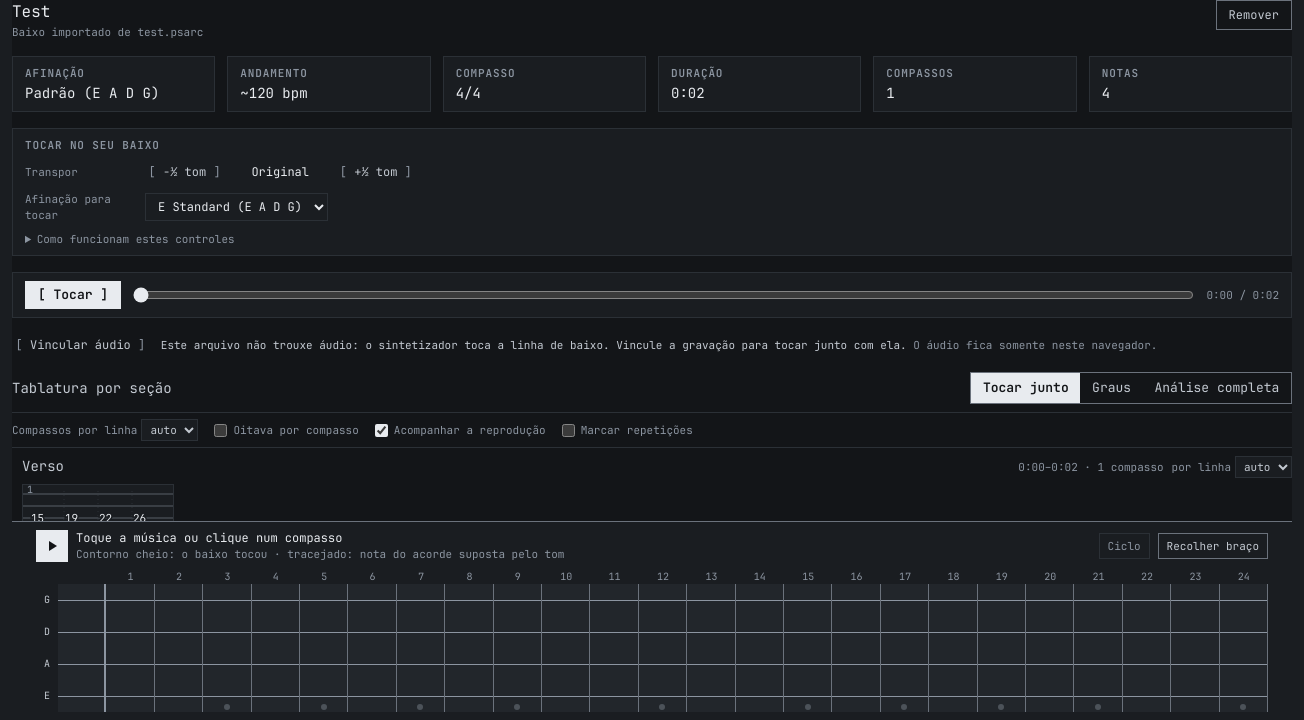
it: Biblioteca semitone buttons › transposes midi chords and synth notes in both directions, then restores the original
The width and height of the screenshot is (1304, 720).
Click the button "Análise completa" at [1217, 388], box [1143,373,1291,403]
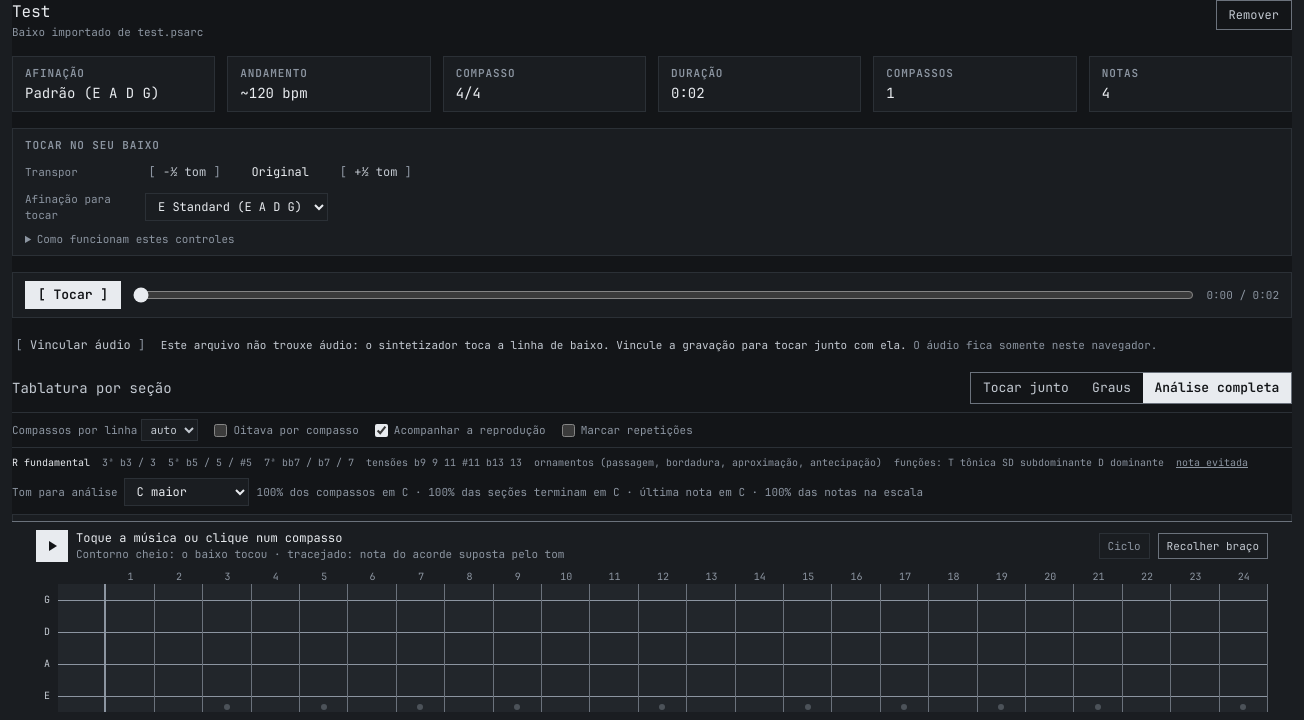
Select "C maior" in the dropdown labelled "Tom para análise" at [186, 492], box [124,478,249,506]
Click the button with aria-label "Aumentar meio tom" at [376, 172], box [336,161,415,183]
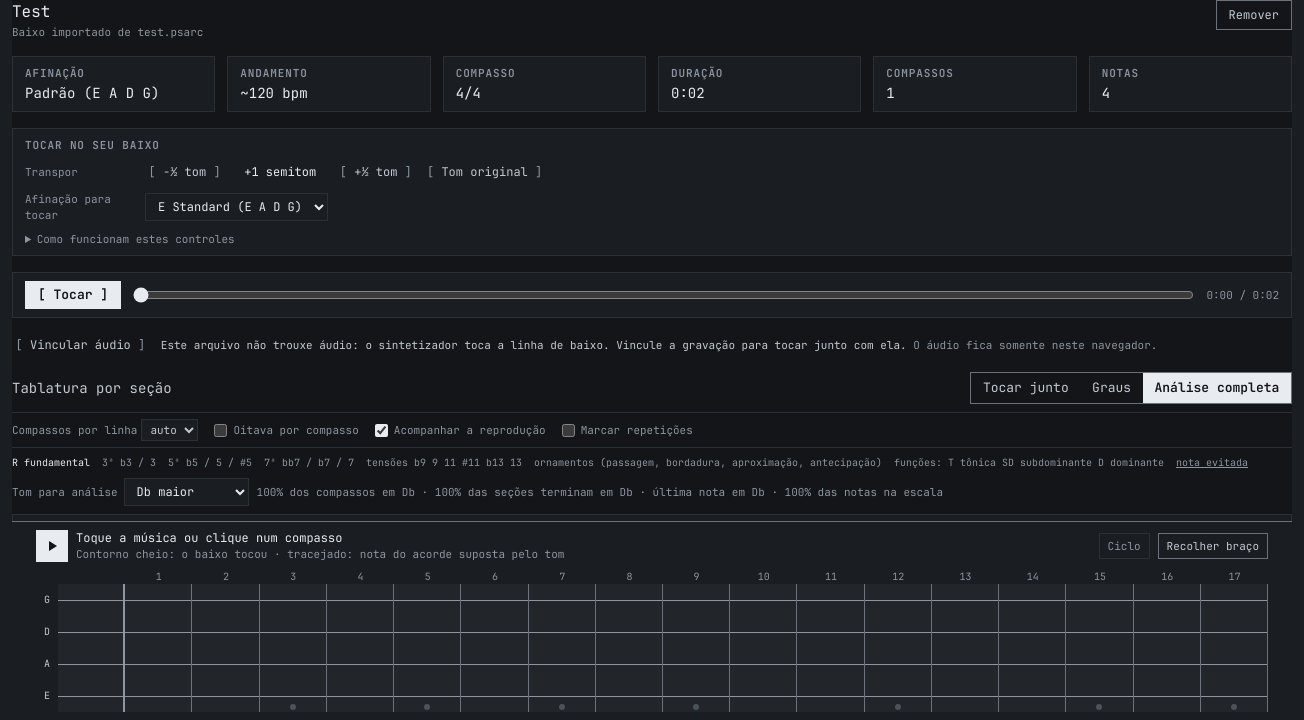
Click the button with aria-label "Diminuir meio tom" at [185, 172], box [145,161,224,183]
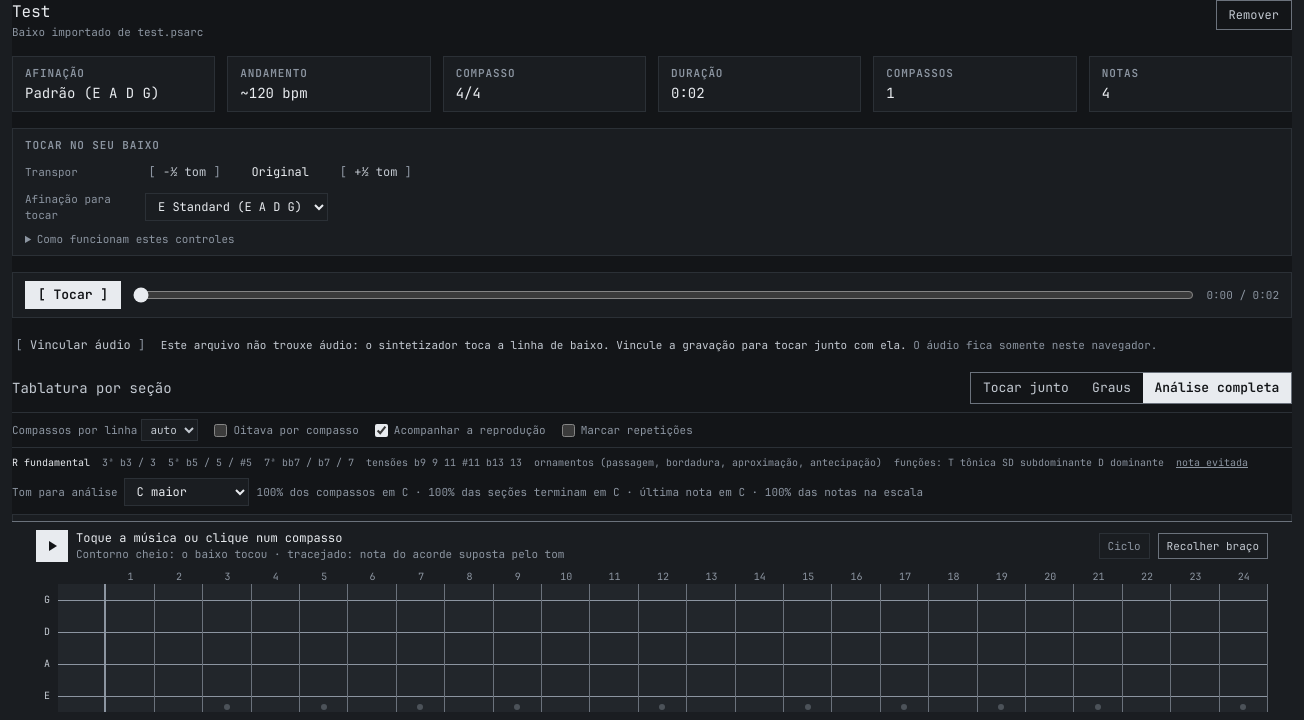
Click the button with aria-label "Diminuir meio tom" at [185, 172], box [145,161,224,183]
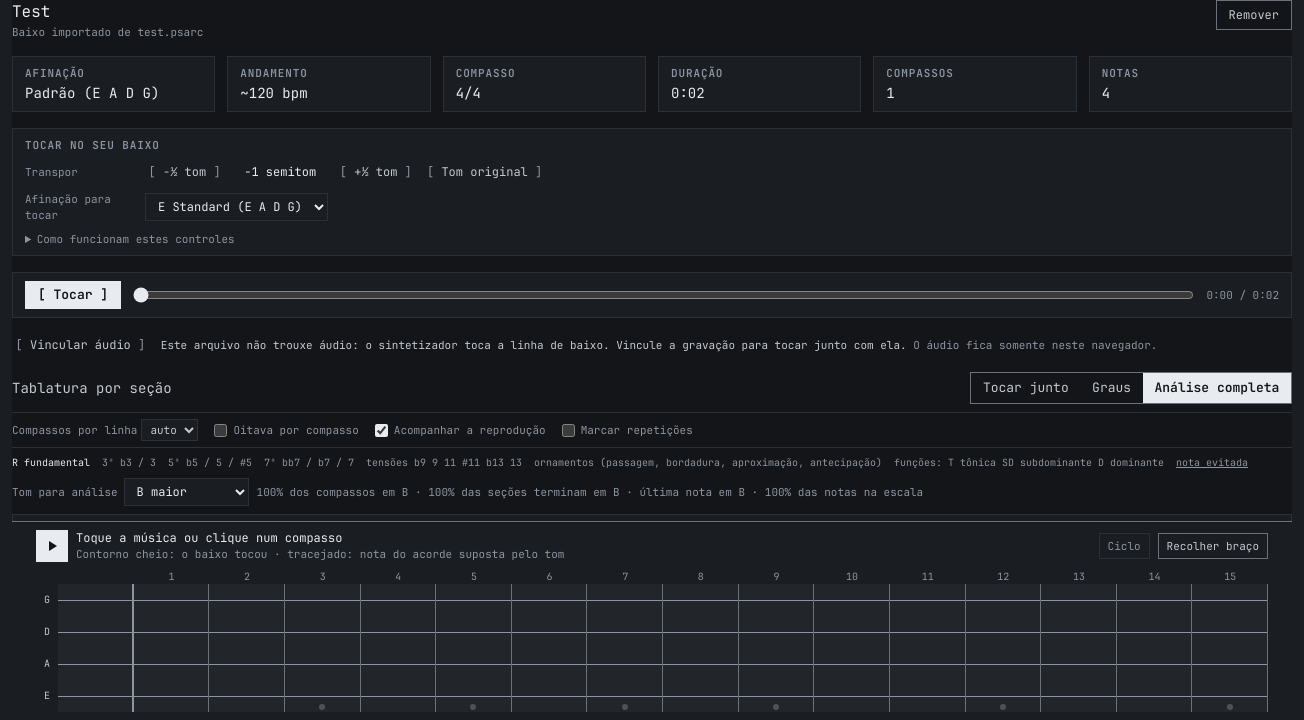
Click the button "Tom original" at [485, 172], box [423,161,546,183]
(page scrolled)
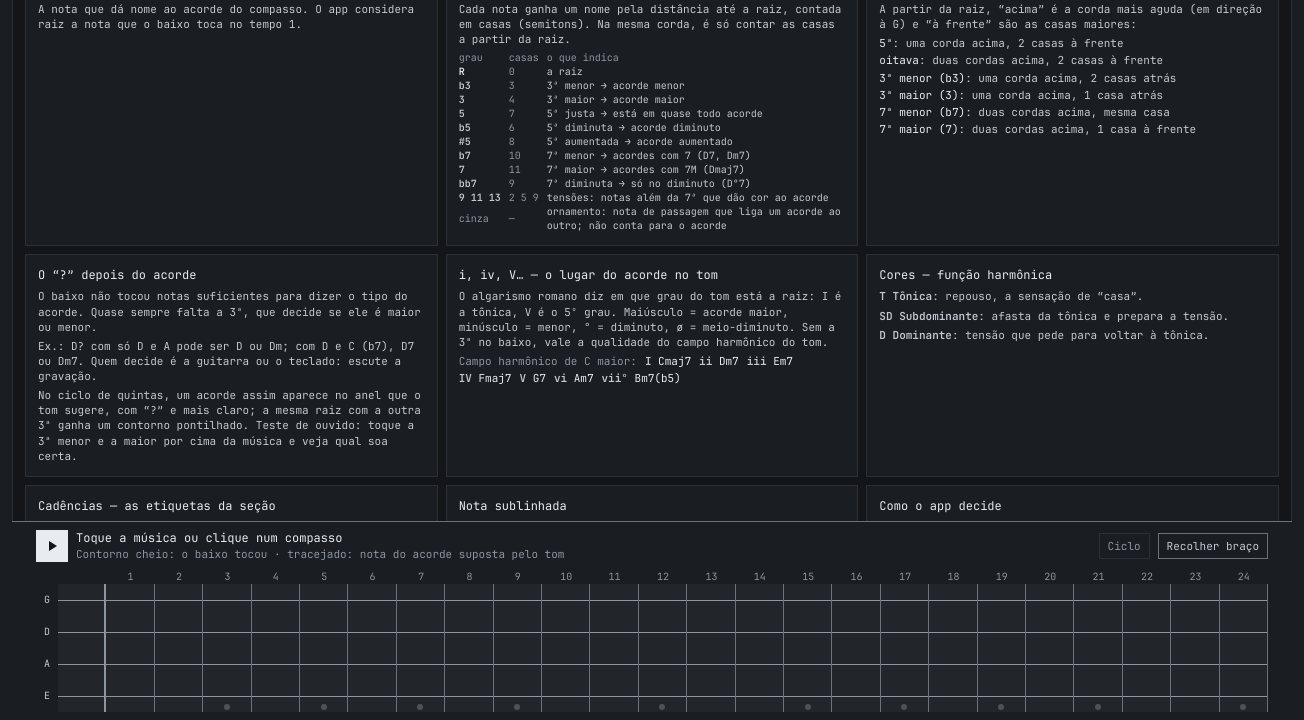
expect the text "Cmaj7" is shown: met, box [658,354,691,368]
